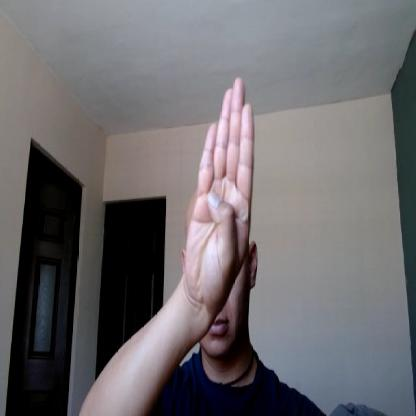B: (185, 74, 254, 308)
